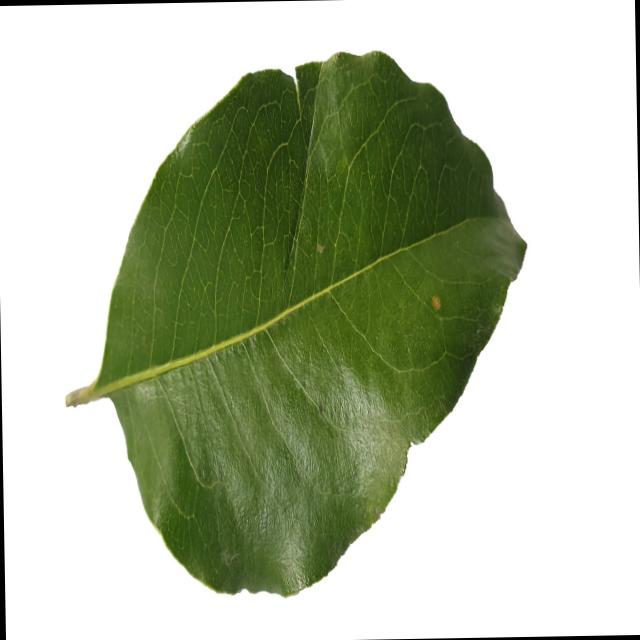Medicinal-Sandalwood: (58, 48, 534, 606)
